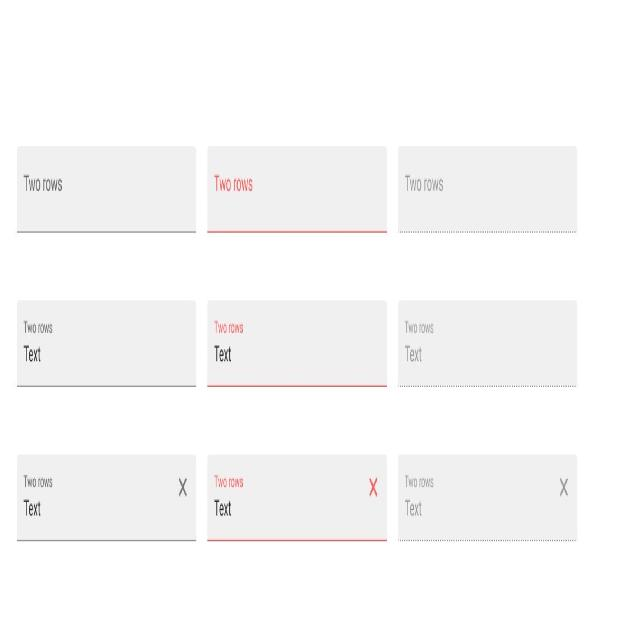VTextarea: (397, 296, 578, 391), (397, 451, 578, 544), (206, 298, 388, 390), (206, 453, 388, 545), (16, 144, 197, 236), (16, 453, 197, 545), (398, 144, 578, 236), (207, 145, 388, 236), (16, 298, 197, 388)
